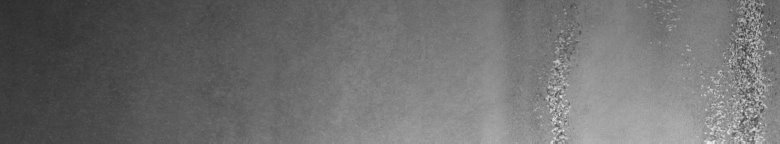hc: (661, 4, 776, 136)
